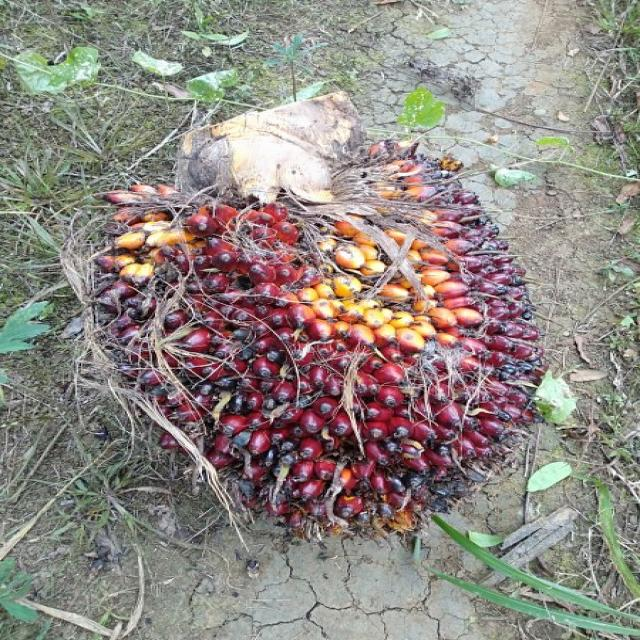fraksi 1: (38, 82, 593, 550)
